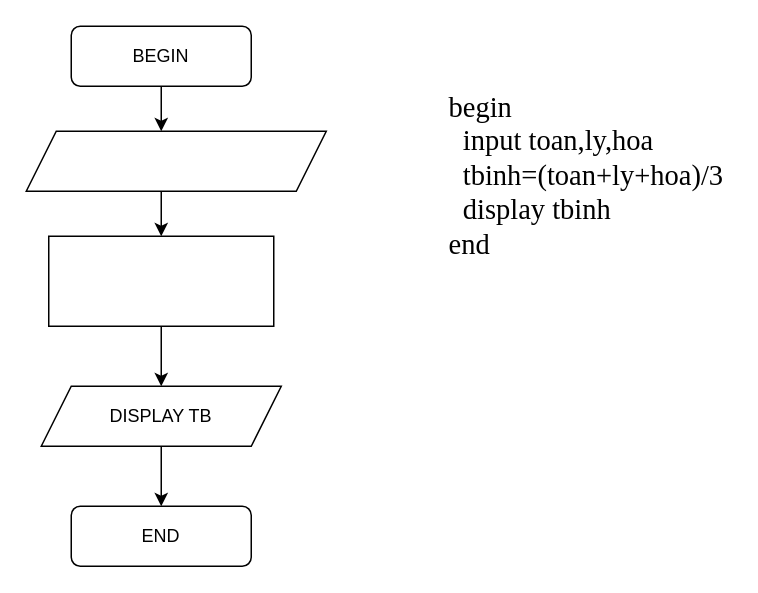
This 758x593 diagram has some shape labels left out. Here are the shapes that lost their labels. From the top down, the box of each, then its label:
(25, 130, 326, 191): INPUT TOAN,LY,HOA
(47, 235, 274, 326): TB=(TOAN+LY+HOA)/3
